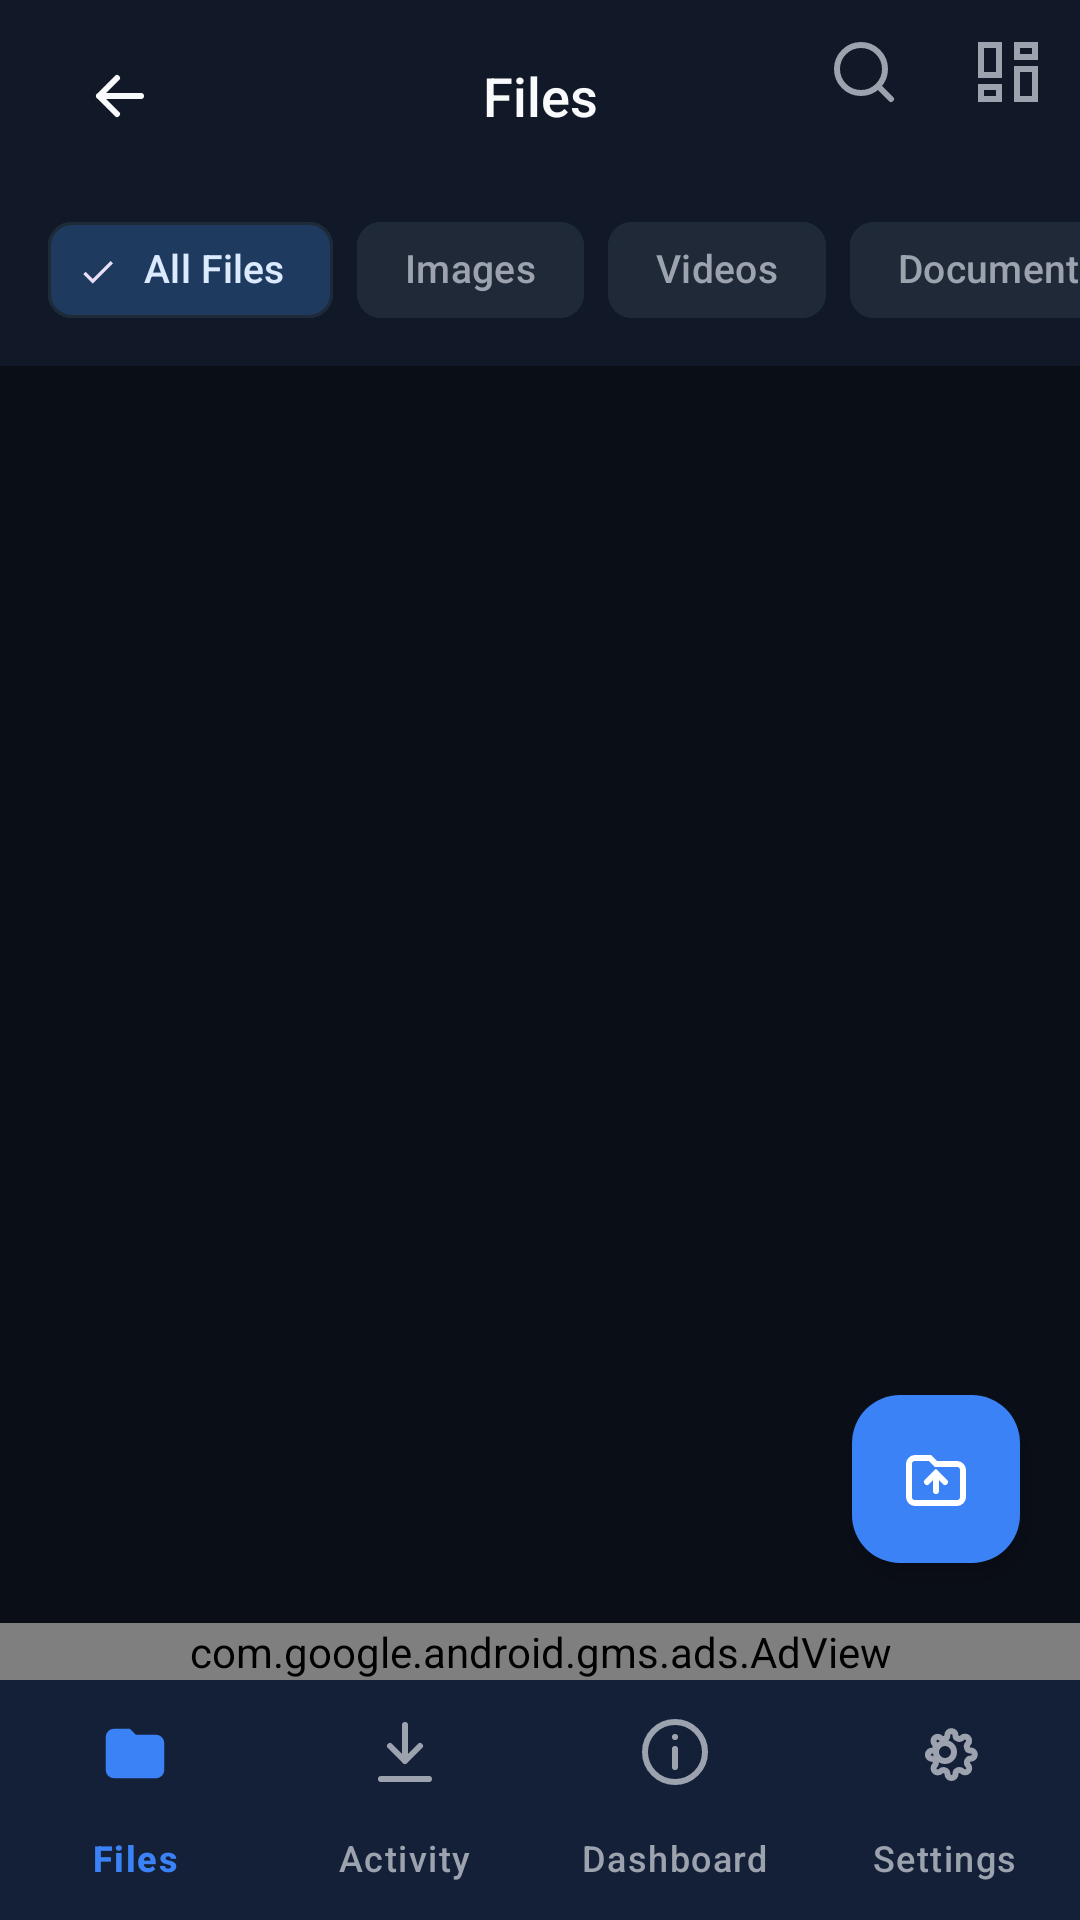

Screen size 1080x1920. Icon name, then its center in pixels as point (x, y):
Back: point (120, 96)
Layout Toggle: point (1008, 72)
Search: point (864, 72)
Upload File: point (936, 1479)
